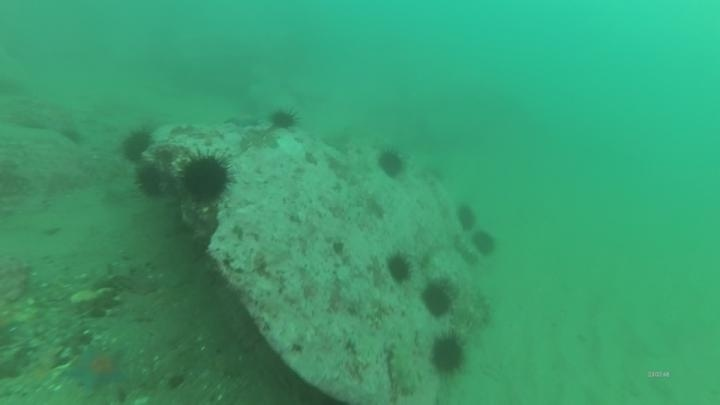echinus: (178, 150, 234, 206), (427, 331, 469, 378), (419, 279, 456, 320), (119, 126, 155, 163), (133, 163, 168, 199), (375, 147, 408, 180), (384, 251, 415, 285), (267, 106, 300, 133), (470, 229, 499, 259), (454, 202, 479, 233)
holothurian: (385, 334, 422, 402), (464, 285, 496, 333)
starfish: (60, 342, 131, 396), (223, 111, 262, 130)
